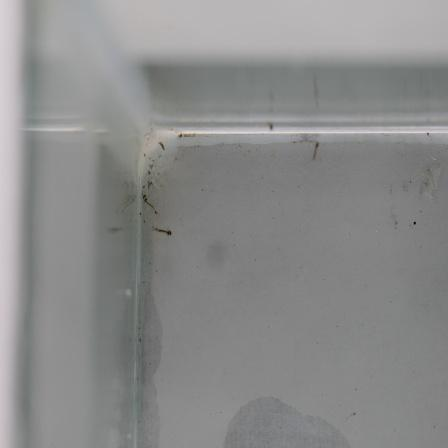Jentik-Nyamuk: (139, 189, 161, 216), (150, 221, 173, 242), (307, 140, 324, 163)
